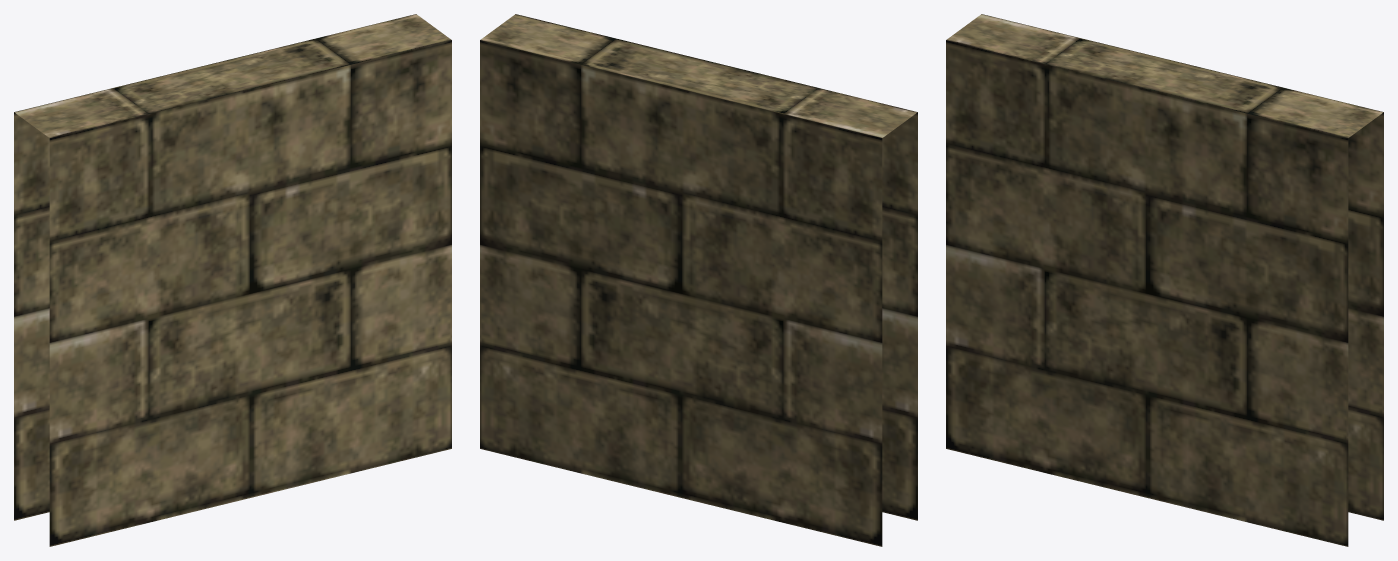
The model's file is ANIMATEDINSTANCES_TRAP_DOOR_01__AI.fbx.
3 views of the same model, side by side, from view 1: azimuth 30°, elevation 25°; view 2: azimuth 150°, elevation 25°; view 3: azimuth 330°, elevation 25° (orthographic).
Visible parts, largest first — view 1: ANIMATEDINSTANCES_TRAP_DOOR_01__AI; view 2: ANIMATEDINSTANCES_TRAP_DOOR_01__AI; view 3: ANIMATEDINSTANCES_TRAP_DOOR_01__AI.
Boxes of the visible parts, x1=… form: ANIMATEDINSTANCES_TRAP_DOOR_01__AI: x1=14, y1=14, x2=451, y2=546; ANIMATEDINSTANCES_TRAP_DOOR_01__AI: x1=480, y1=14, x2=917, y2=546; ANIMATEDINSTANCES_TRAP_DOOR_01__AI: x1=946, y1=14, x2=1383, y2=546.
Bounding box in the file's own units: 32623 × 31670 × 5014.
1 material, 1 textured.
